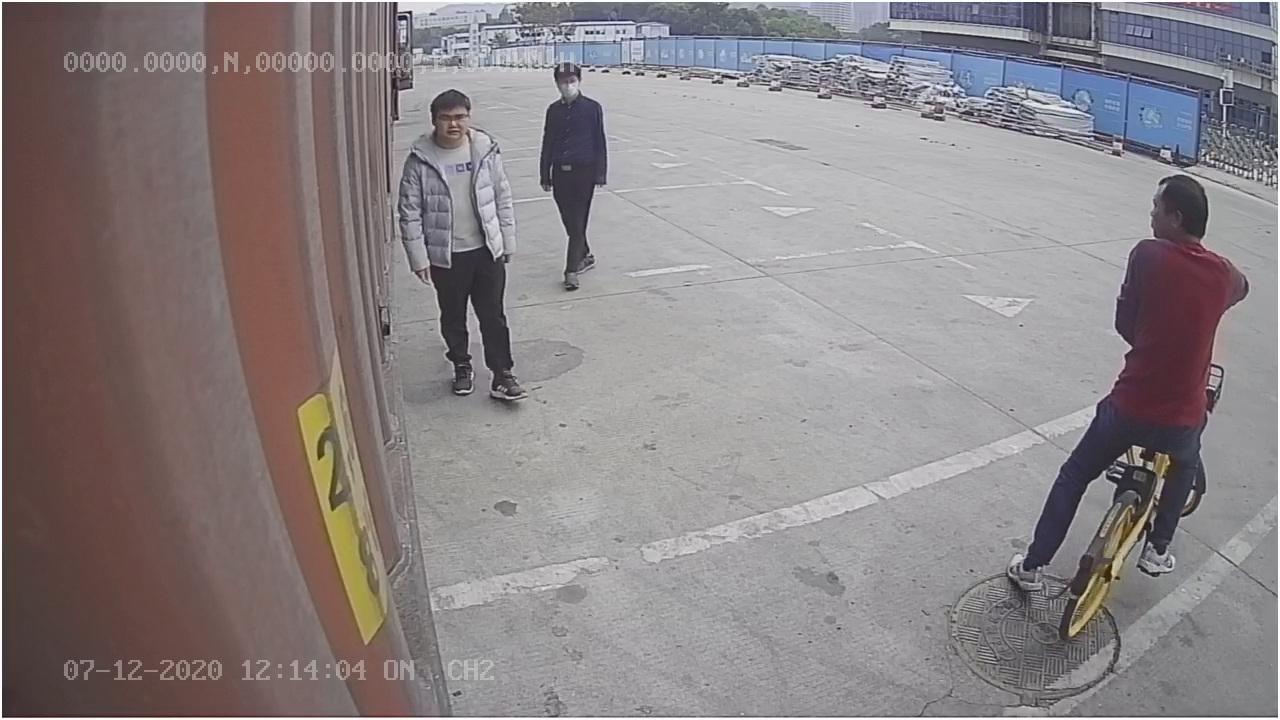person: (536, 56, 615, 290)
